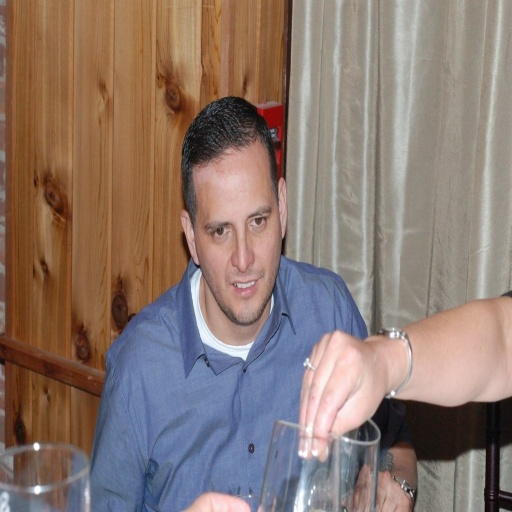hand: (297, 320, 423, 462), (352, 467, 411, 511), (186, 490, 250, 511)
